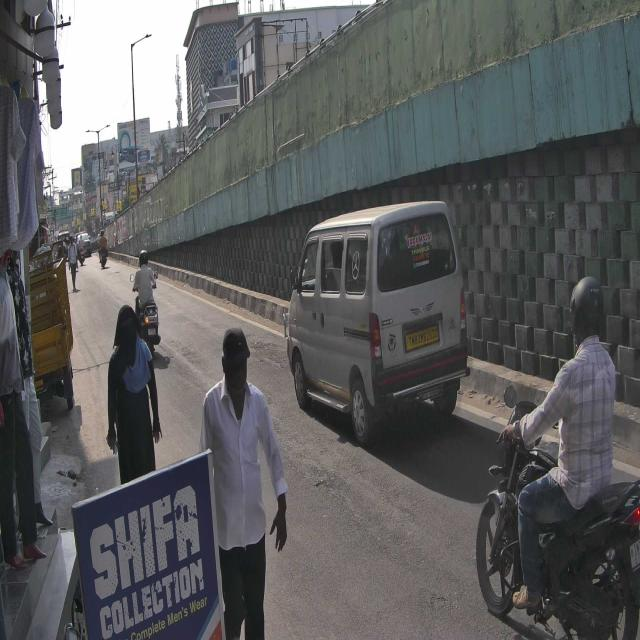single_rider: (476, 273, 640, 640)
